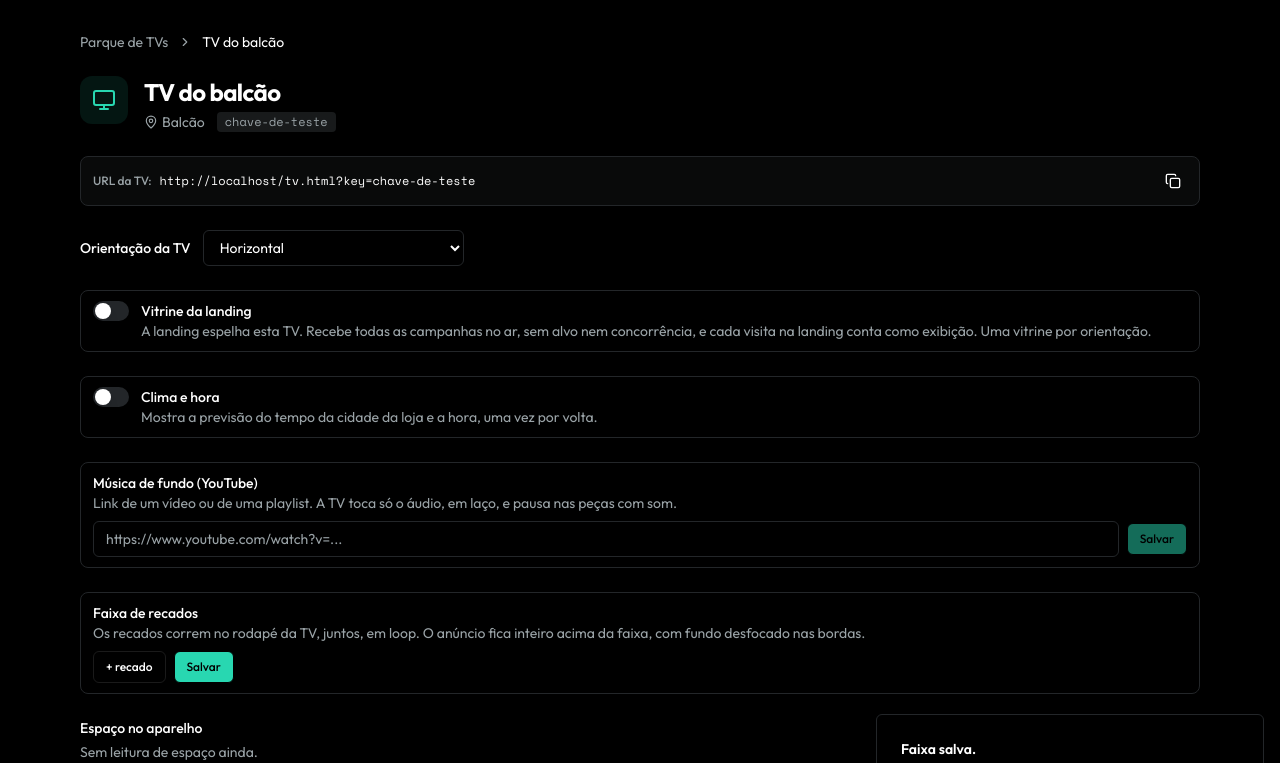
faixa de recados › erro 400 do servidor aparece no toast e o texto digitado fica no campo
Click the button "+ recado" at (129, 667), box x1=93 y1=651 x2=166 y2=683
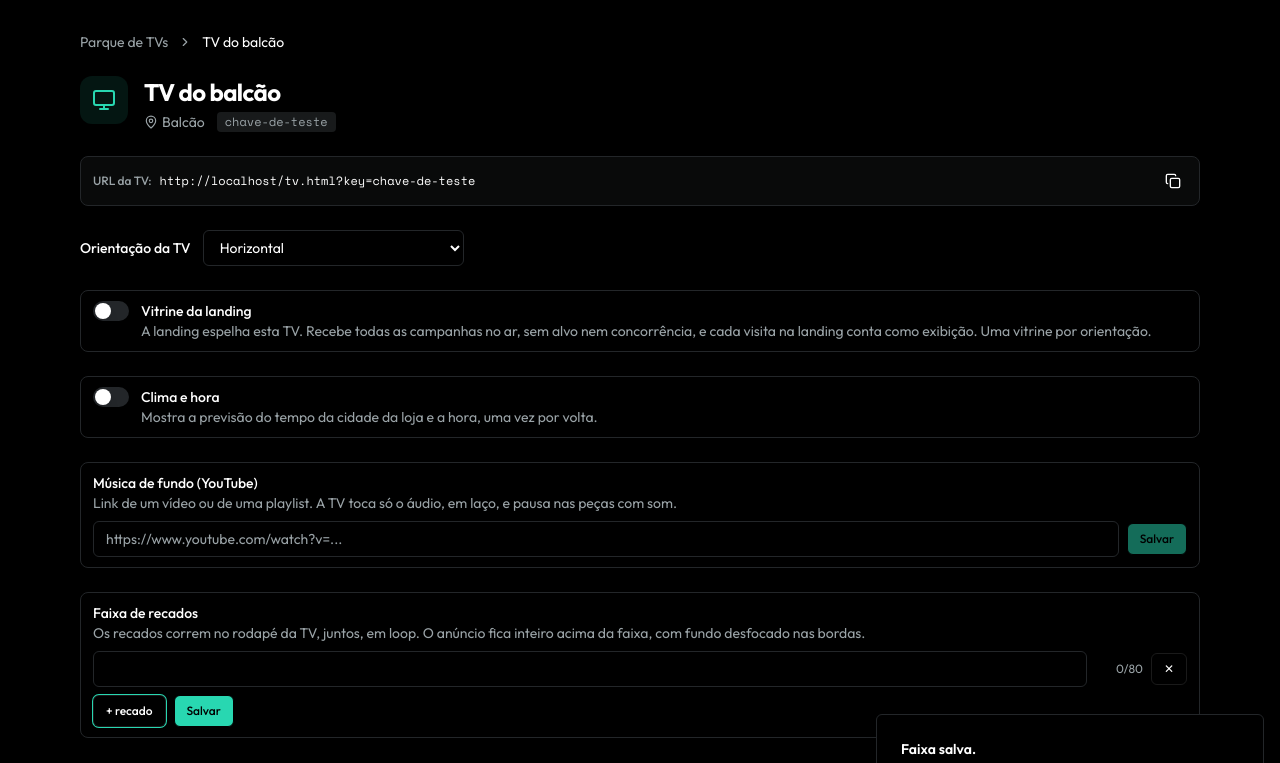
Type "Pão quentinho às 17h" into the field named "Recado 1" at (590, 669), box x1=93 y1=651 x2=1087 y2=687
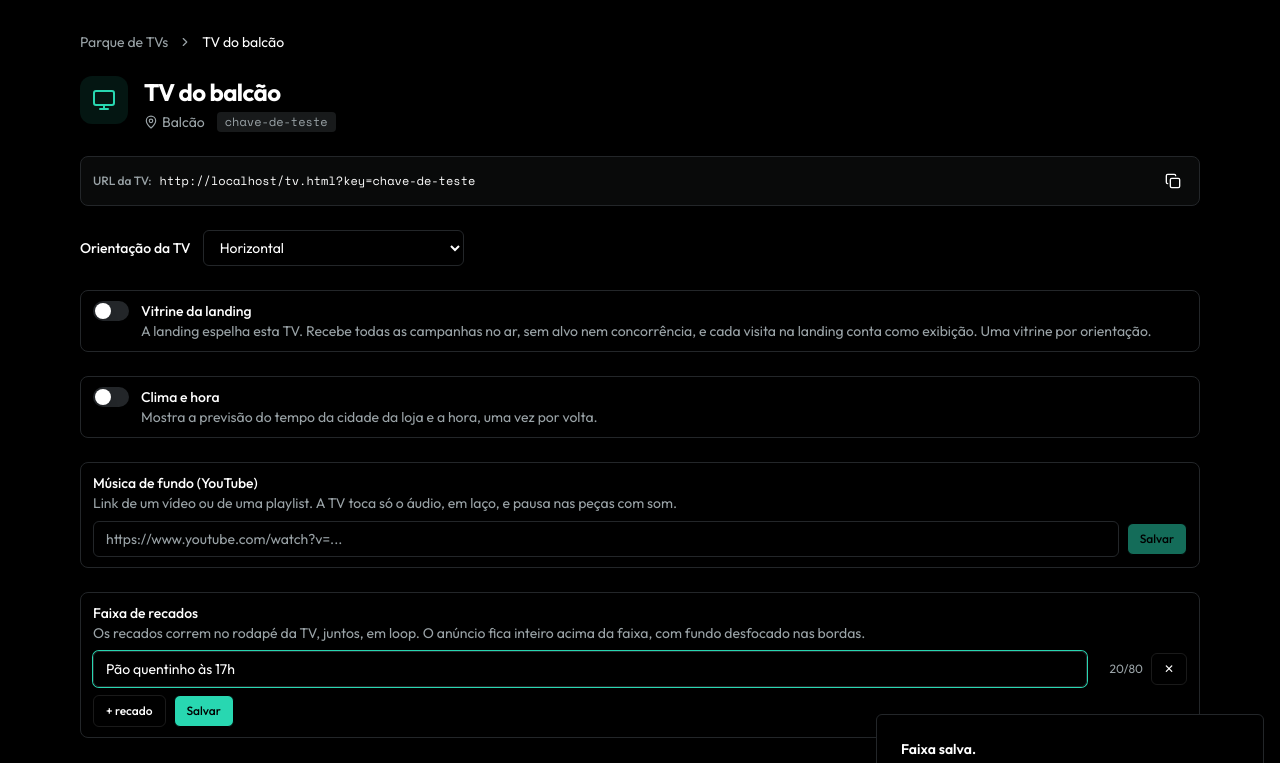
Click the button with aria-label "Salvar recados" at (204, 711), box x1=174 y1=695 x2=234 y2=727
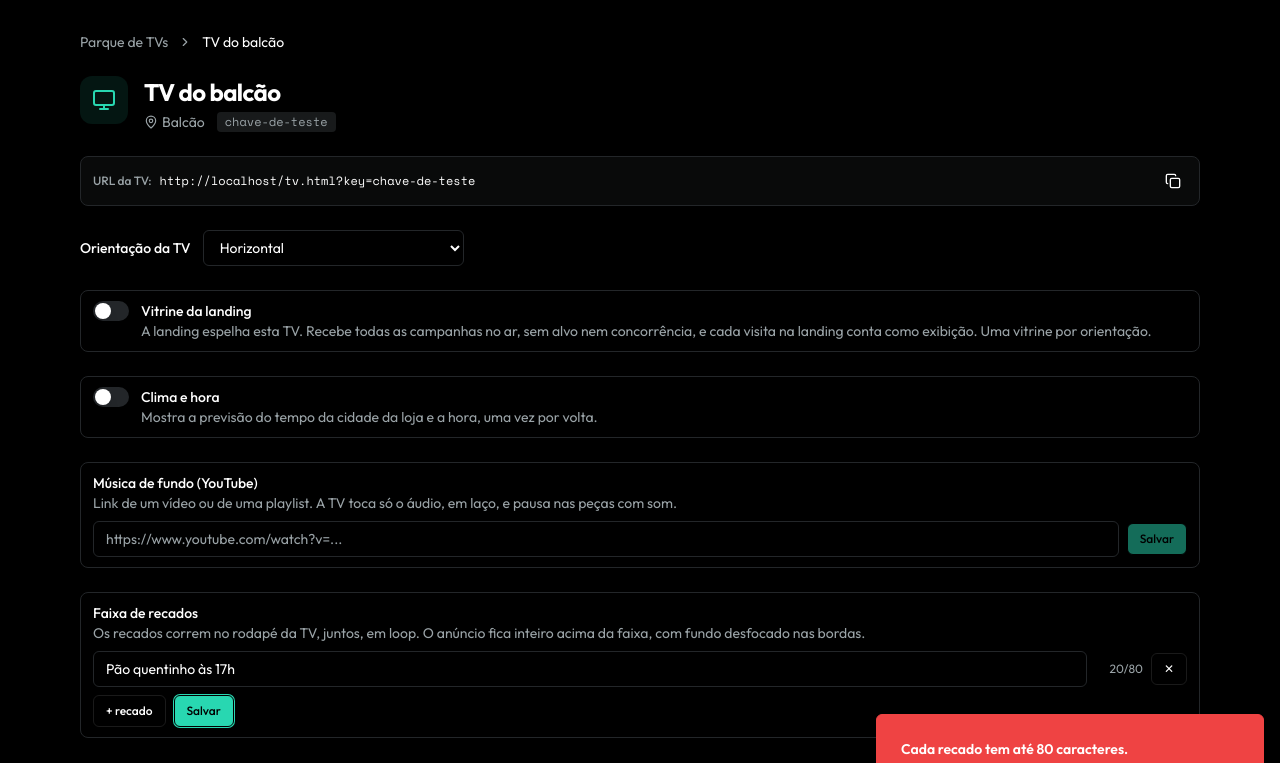
expect the text "Cada recado tem até 80 caracteres." is shown: met, box x1=901 y1=739 x2=1128 y2=759
